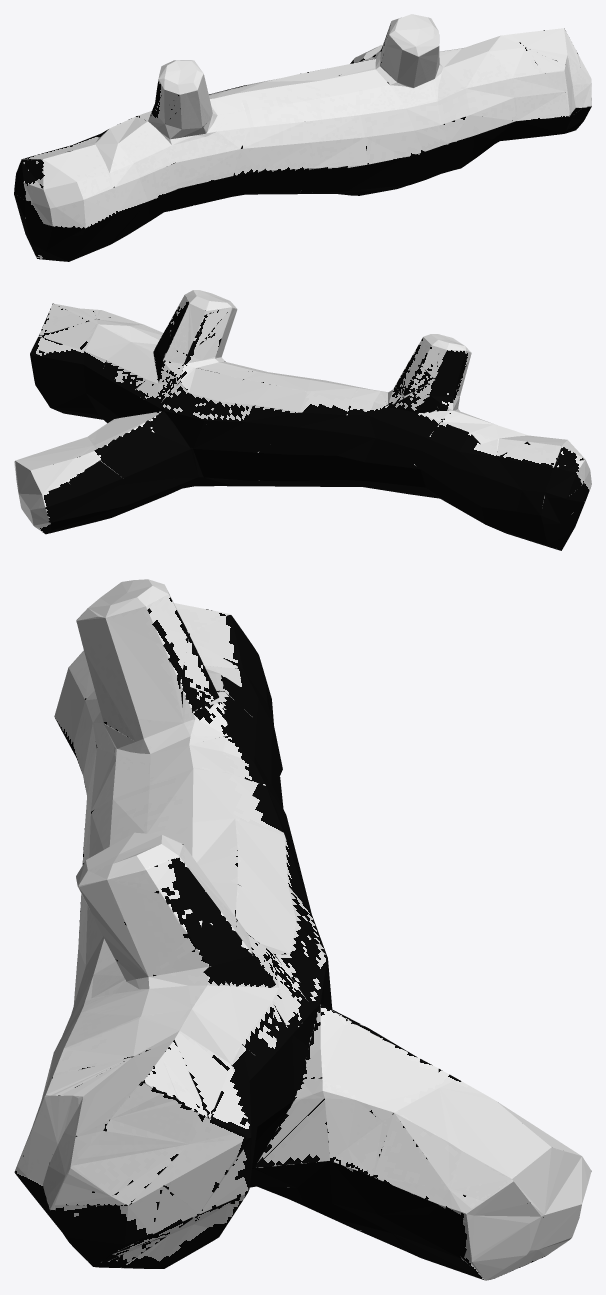
3 renders of one model, top to bottom at view 1: azimuth 30°, elevation 25°; view 2: azimuth 150°, elevation 25°; view 3: azimuth 270°, elevation 25°, orthographic. The views are drawn at different scales.
Visible parts, largest first — view 1: OBJ0cc; view 2: OBJ0cc; view 3: OBJ0cc.
Boxes of the visible parts, <box> form: OBJ0cc: <box>14,14,591,261</box>; OBJ0cc: <box>14,290,591,550</box>; OBJ0cc: <box>14,579,591,1280</box>.
Size of the model in its own units: 0.3303 by 0.1127 by 0.152.
1 material, 1 textured.
